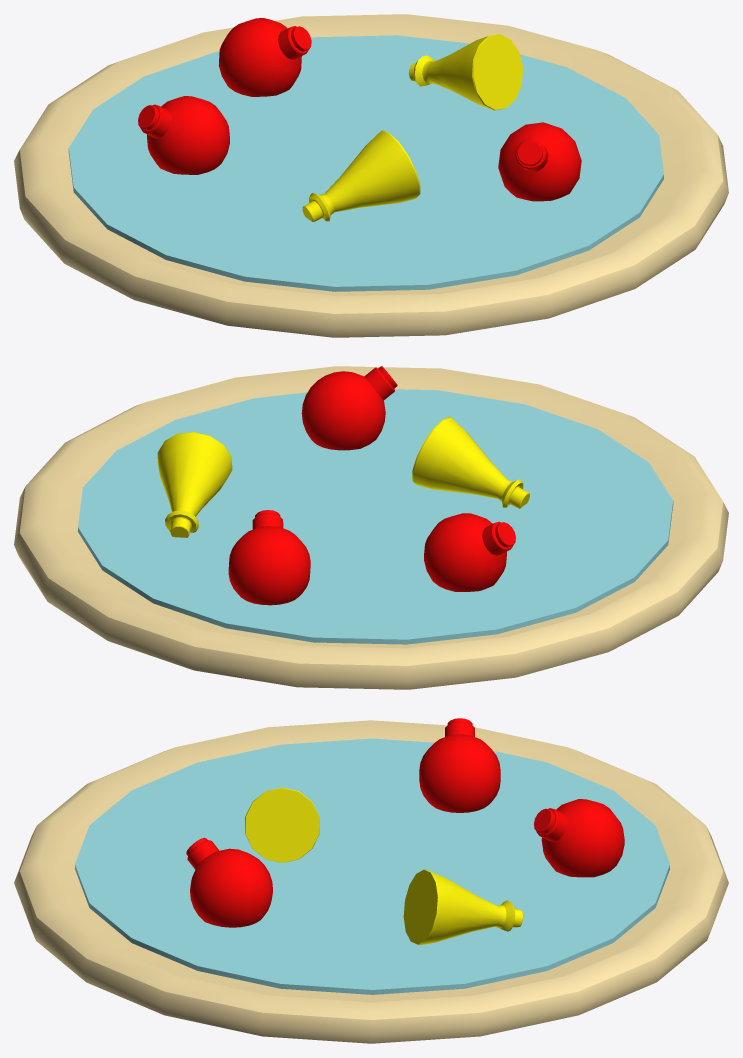
Rendered from Pizza_potion.fbx.
The picture shows the model from 3 angles, top to bottom: view 1: azimuth 30°, elevation 25°; view 2: azimuth 150°, elevation 25°; view 3: azimuth 270°, elevation 25°; orthographic projection.
Visible parts, largest first — view 1: ost, deig, RundPotion2, Klassikpotion; view 2: ost, deig, RundPotion2, Klassikpotion; view 3: ost, deig, RundPotion2, Klassikpotion.
Part boxes in pixels (<box>): ost: <box>68,35,663,291</box>; deig: <box>14,14,728,337</box>; RundPotion2: <box>138,18,581,201</box>; Klassikpotion: <box>302,34,522,221</box>; ost: <box>78,389,673,644</box>; deig: <box>14,366,728,689</box>; RundPotion2: <box>228,366,515,605</box>; Klassikpotion: <box>157,417,529,537</box>; ost: <box>75,738,669,994</box>; deig: <box>14,720,728,1043</box>; RundPotion2: <box>186,718,624,927</box>; Klassikpotion: <box>245,787,523,945</box>.
Bounding box in the file's own units: 11.4 × 1.65 × 11.4.
